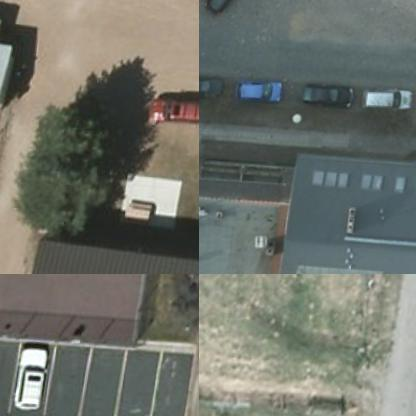car: (13, 347, 48, 412), (143, 96, 198, 131), (227, 75, 285, 108), (302, 80, 356, 114), (363, 82, 416, 116), (199, 68, 222, 106), (206, 0, 253, 17)
